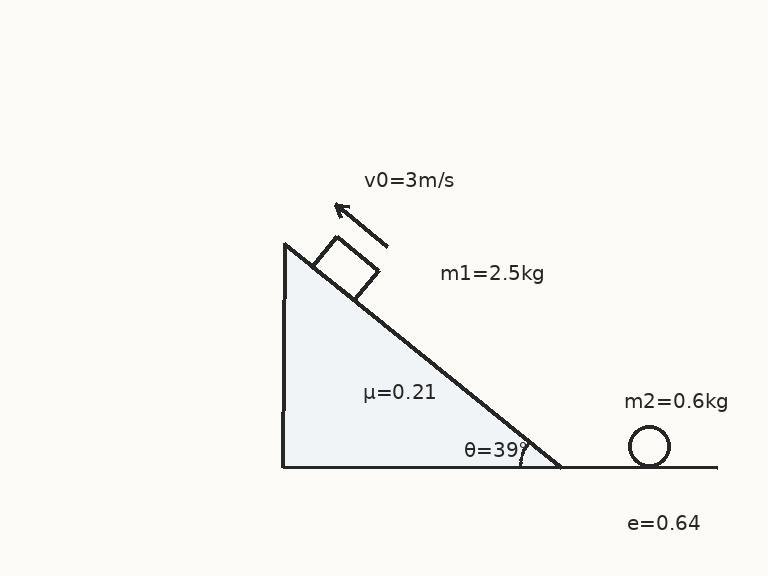ball: (626, 423, 672, 469)
block: (310, 234, 380, 302)
ramp: (281, 241, 562, 469)
